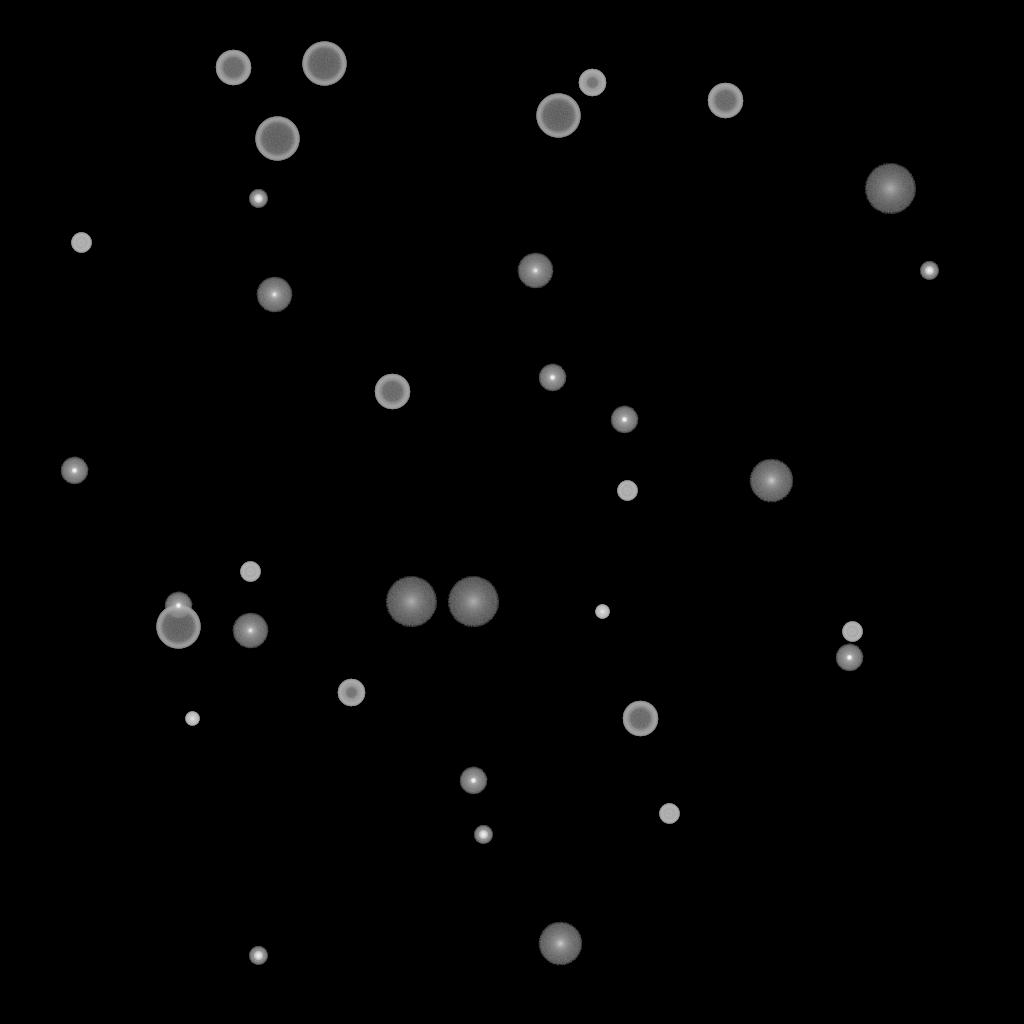depth:-10: (610, 406, 638, 434), (164, 592, 192, 620), (60, 457, 88, 485), (538, 364, 566, 392), (835, 644, 863, 672), (459, 767, 487, 795)
depth:-20: (249, 190, 267, 208), (920, 262, 938, 280), (249, 947, 267, 965), (474, 826, 492, 844)
depth:-30: (185, 712, 199, 726), (595, 605, 609, 619)
depth:-40: (71, 233, 91, 253), (617, 481, 637, 501), (659, 804, 679, 824), (240, 562, 260, 582), (842, 622, 862, 642)
depth:-50: (578, 69, 606, 97), (337, 679, 365, 707)
depth:-60: (215, 50, 251, 86), (707, 83, 743, 119), (374, 374, 410, 410), (622, 701, 658, 737)
depth:-70: (302, 42, 346, 86), (255, 117, 299, 161), (156, 605, 200, 649), (536, 94, 580, 138)
depth:0: (232, 613, 268, 649), (517, 253, 553, 289), (256, 277, 292, 313)
depth:10: (538, 922, 582, 966), (749, 459, 793, 503)
depth:20: (447, 577, 499, 627), (864, 164, 916, 214), (385, 577, 437, 627)
